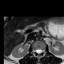CCS_normal: (37, 47, 40, 56)
LFS_normal: (42, 47, 44, 54)
LLS_normal: (40, 47, 42, 55)
RFS_normal: (33, 47, 35, 54)
RLS_normal: (35, 47, 37, 55)
